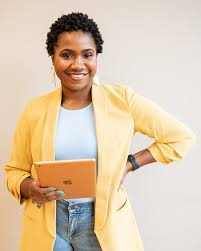person: (46, 12, 103, 92)
